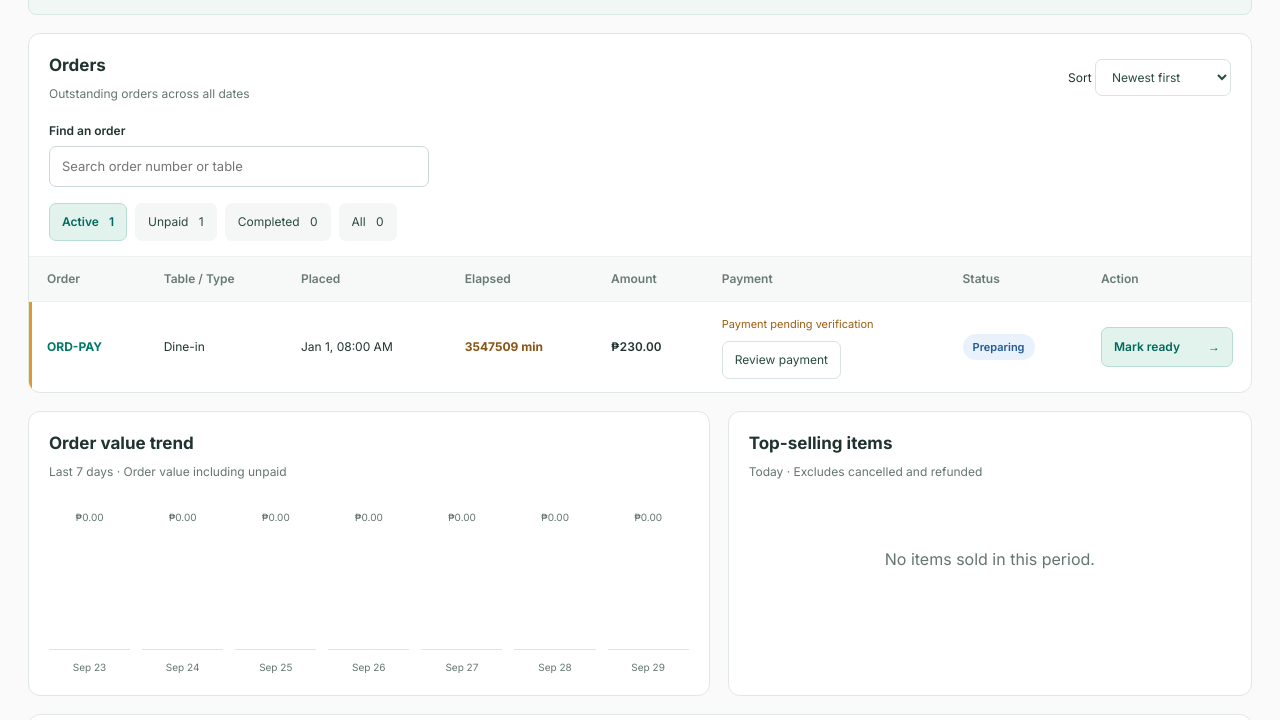
Test case: failed confirmation keeps payment pending and allows retry
(page scrolled)
Click the button "Review payment" at [781, 360], box [722,341,841,379]
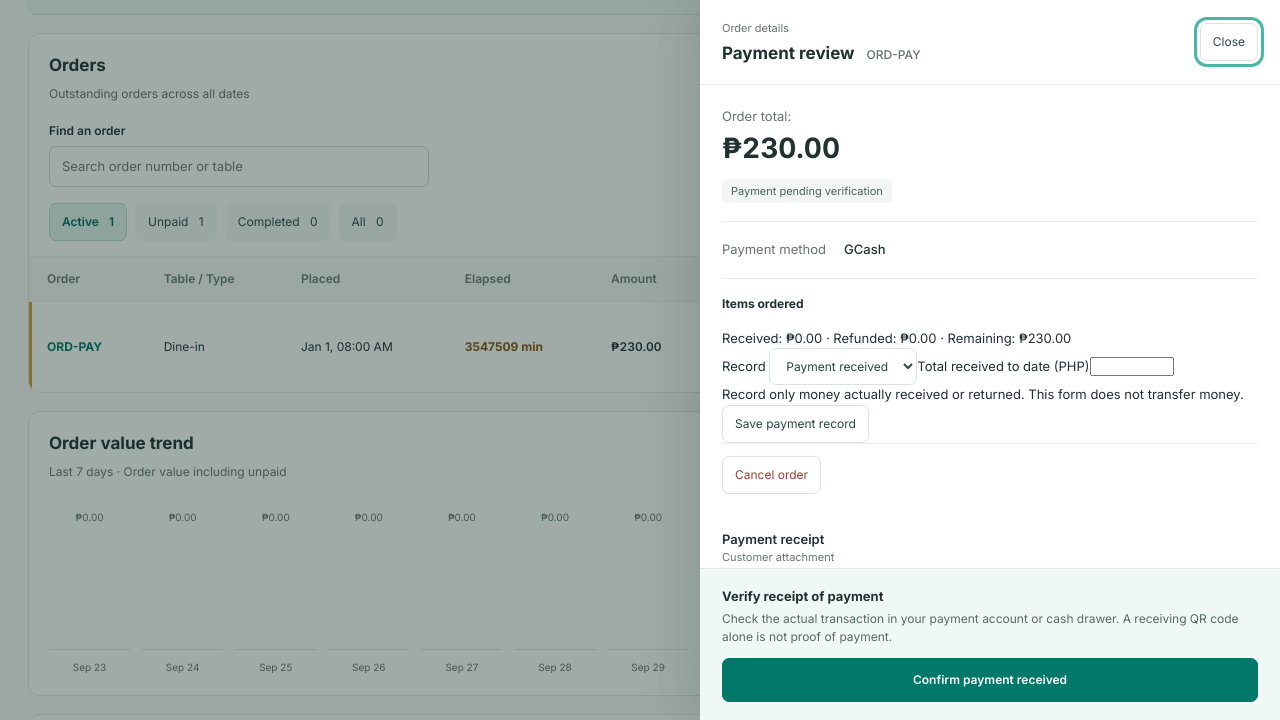
Click the button "Confirm payment received" at [990, 680], box [722,658,1258,702]
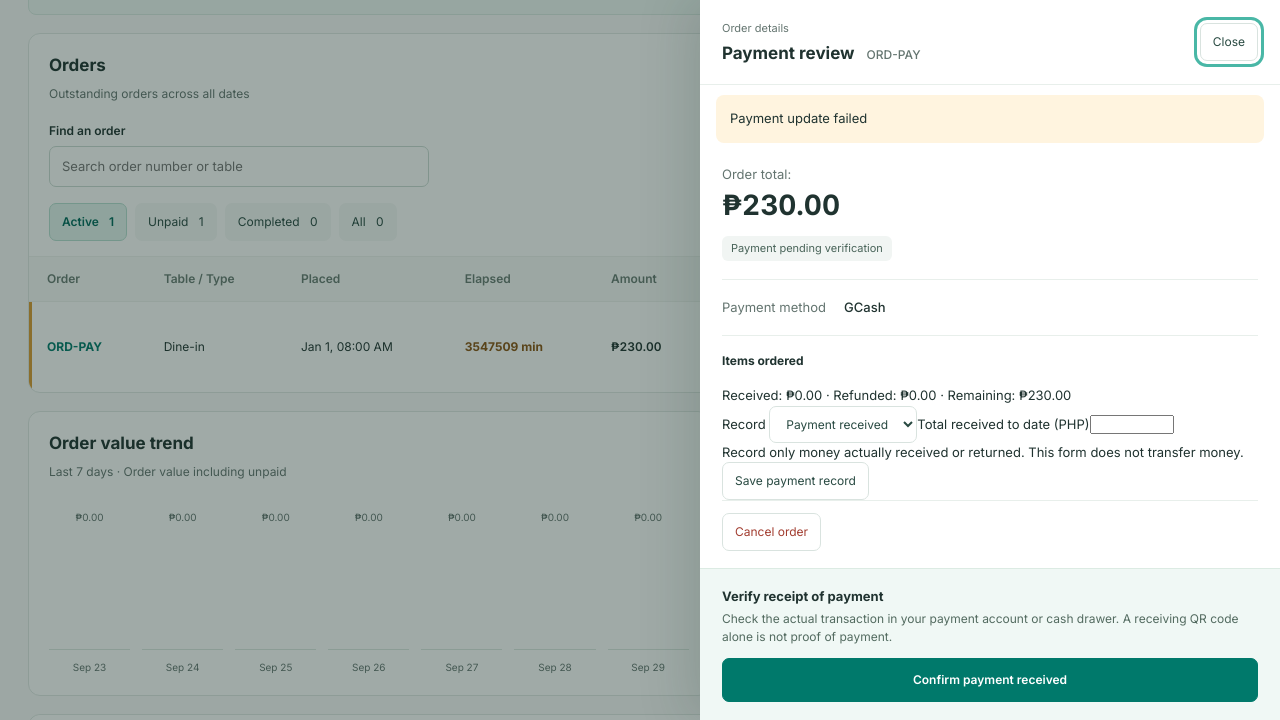
Expected: the button "Confirm payment received" is enabled, [722,658,1258,702]
Expected: the message reads "Payment update failed", [730,110,867,126]
